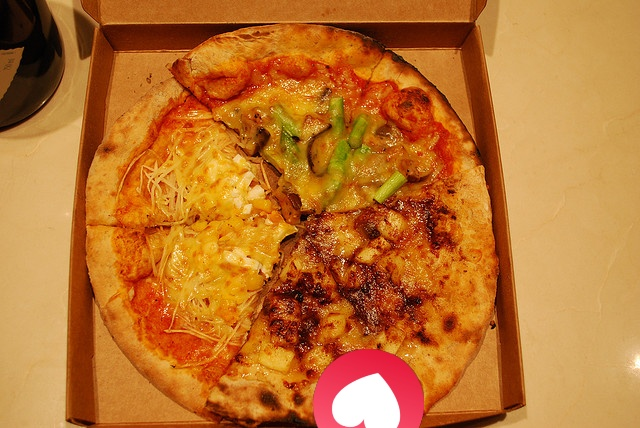love: (313, 349, 424, 428)
